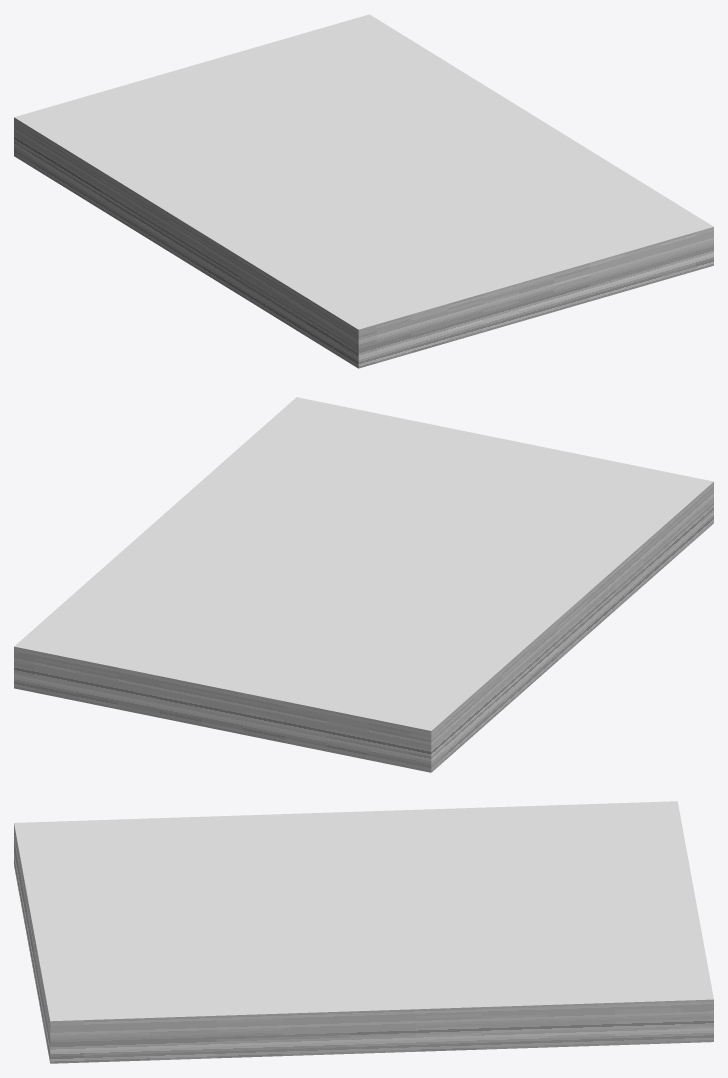
Rendered from paper_stack.fbx.
3 renders of one model, top to bottom at view 1: azimuth 30°, elevation 25°; view 2: azimuth 150°, elevation 25°; view 3: azimuth 270°, elevation 25°, orthographic. The views are drawn at different scales.
Visible parts, largest first — view 1: paper_stack; view 2: paper_stack; view 3: paper_stack.
Part boxes in pixels (<box>): paper_stack: <box>14,14,713,368</box>; paper_stack: <box>14,397,713,772</box>; paper_stack: <box>14,801,713,1063</box>.
Bounding box in the file's own units: 32.92 × 2.97 × 44.26.
1 material, 1 textured.
